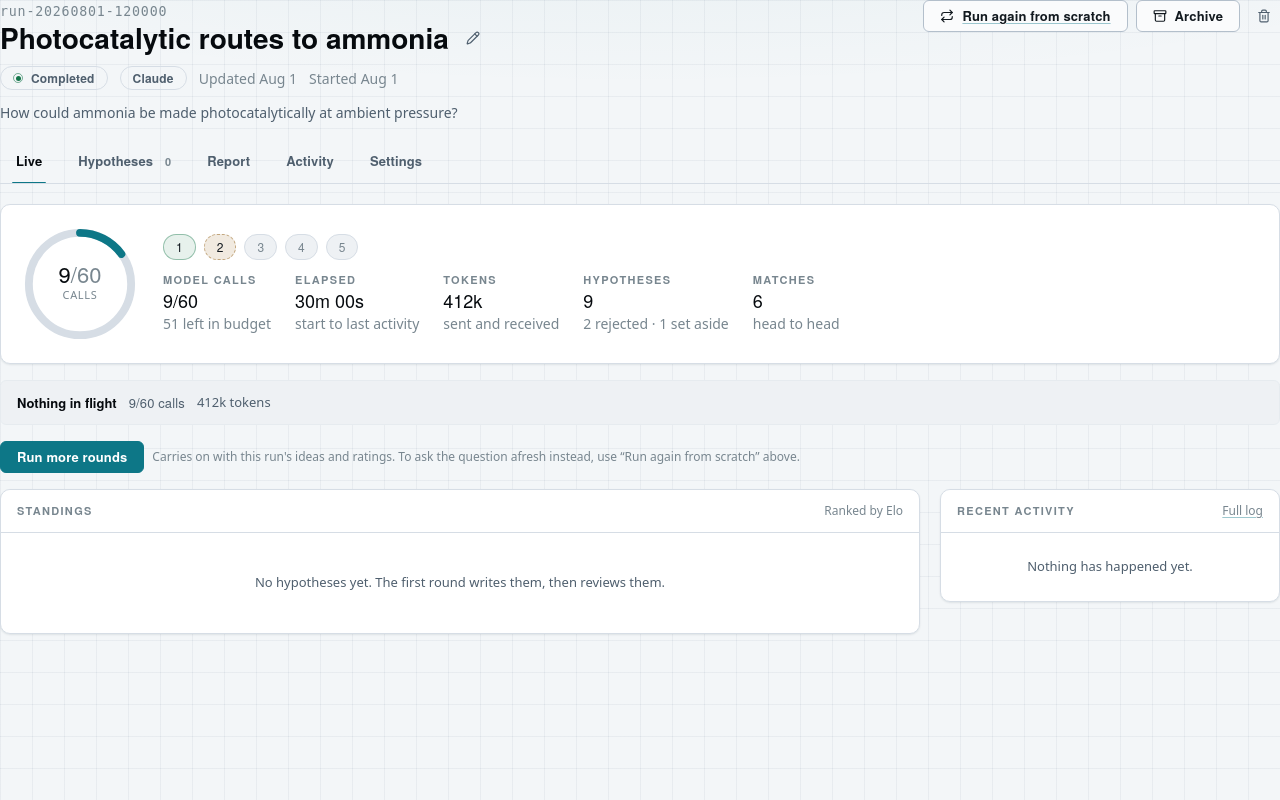
Test: running more rounds of a finished run › quotes what the added rounds cost, not the headroom that happens to be left
Click the button "Run more rounds". click: (72, 457)
box: [0, 441, 144, 473]
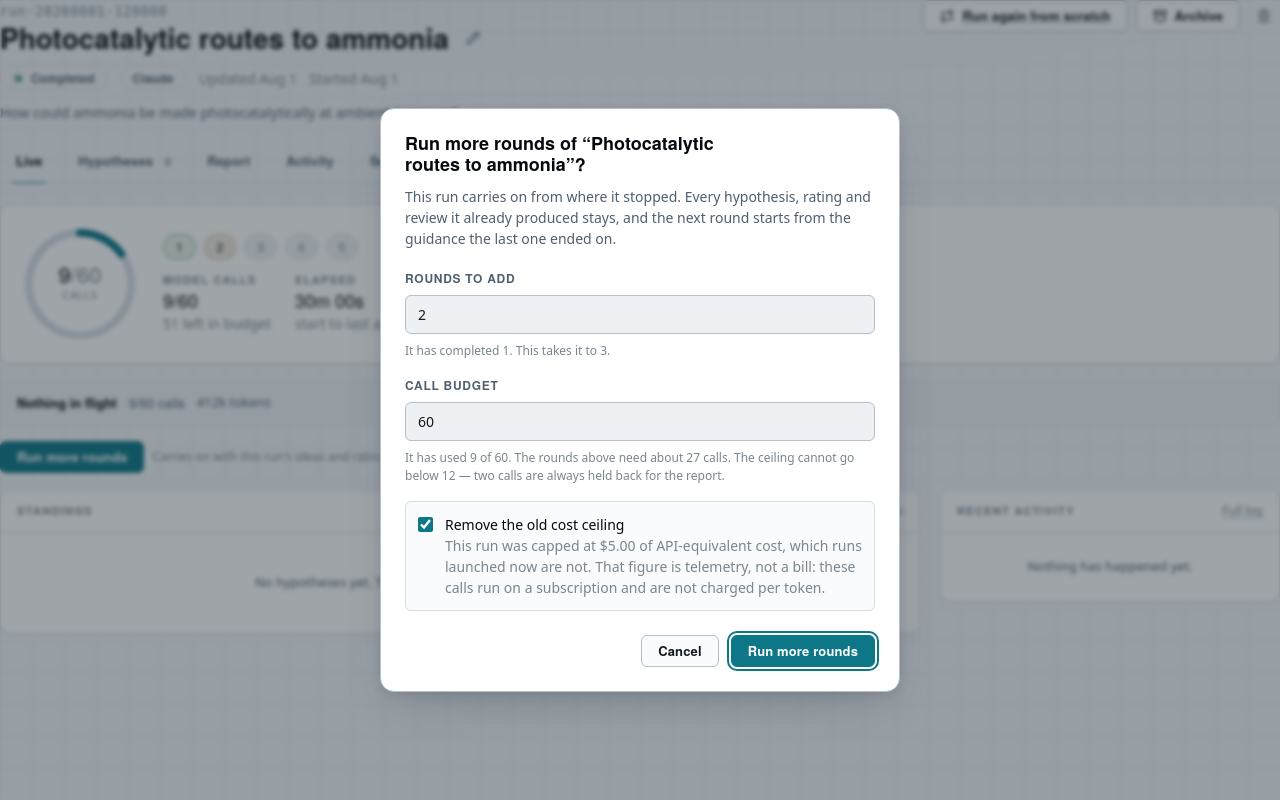
Expected: the dialog does not show "51", [380, 108, 900, 692]
Now the number field labelled "Call budget" holds "60", box [405, 402, 875, 441]
Now the dialog shows "The rounds above need about 27 calls.", box [405, 449, 854, 484]
